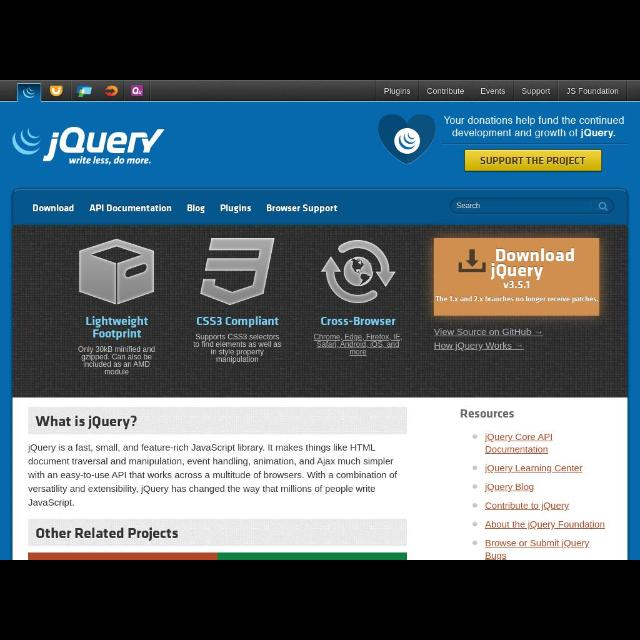icon: (458, 249, 486, 273), (598, 202, 608, 210)
image: (11, 126, 165, 166), (78, 238, 154, 306), (201, 237, 275, 305), (322, 240, 396, 304), (378, 115, 436, 163), (17, 82, 41, 102), (76, 86, 92, 98), (130, 84, 144, 96), (104, 85, 118, 96), (49, 85, 62, 96)
input: (450, 198, 614, 215)
multitab: (1, 80, 640, 102)
text: (26, 443, 398, 509), (473, 433, 607, 559), (443, 116, 625, 138), (491, 248, 574, 290), (192, 333, 282, 363), (433, 328, 543, 350), (77, 346, 155, 374), (313, 334, 403, 354), (36, 528, 178, 540), (85, 316, 149, 340), (36, 415, 138, 429), (480, 156, 586, 167), (436, 296, 598, 302), (319, 316, 396, 328), (196, 317, 280, 327), (88, 204, 172, 212), (266, 204, 338, 213), (460, 409, 514, 419), (566, 87, 620, 95), (32, 204, 74, 212), (219, 204, 251, 213), (427, 88, 465, 94), (521, 88, 551, 95), (384, 88, 410, 96), (187, 204, 207, 214), (456, 202, 480, 208), (480, 88, 504, 94)
textbutton: (434, 238, 600, 316), (465, 150, 601, 172)
toolbar: (12, 190, 628, 222)
